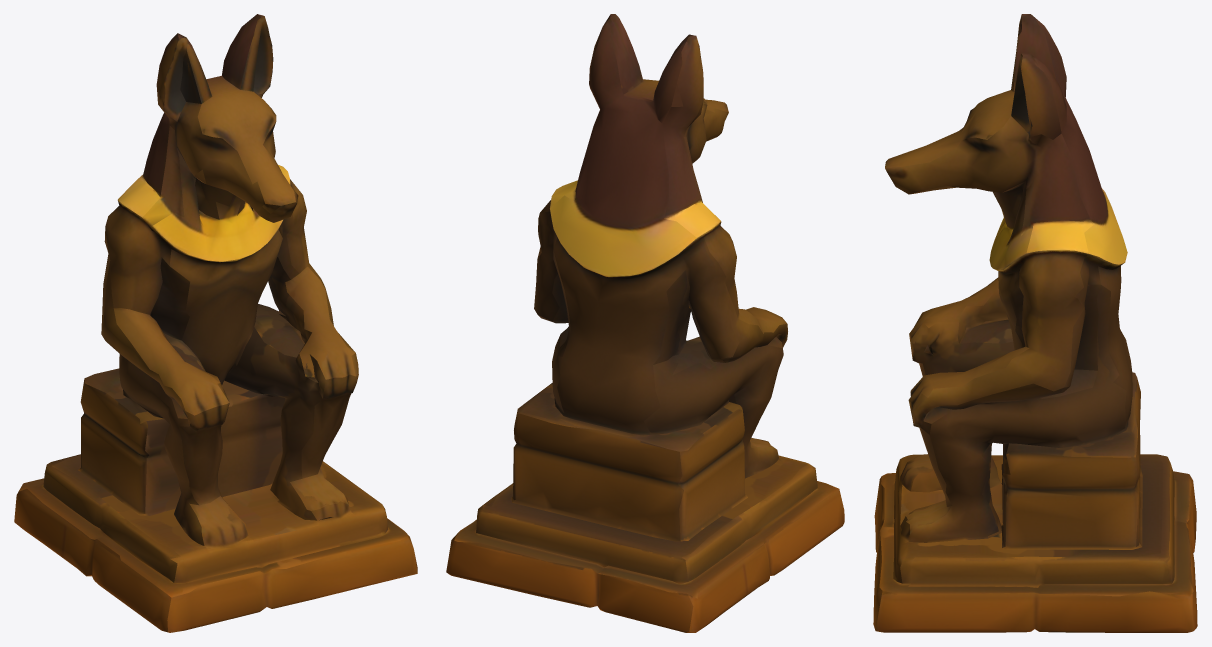
Rendered from Statue2.fbx.
3 views of the same model, side by side, from view 1: azimuth 30°, elevation 25°; view 2: azimuth 150°, elevation 25°; view 3: azimuth 270°, elevation 25° (orthographic). The views are drawn at different scales.
Parts seen in each view (by area): view 1: tmpoyxb_8nv.ply; view 2: tmpoyxb_8nv.ply; view 3: tmpoyxb_8nv.ply.
Part boxes in pixels (x1,y1,x2,y2): tmpoyxb_8nv.ply: (14,14,417,632); tmpoyxb_8nv.ply: (446,14,844,632); tmpoyxb_8nv.ply: (873,14,1197,632).
Bounding box in the file's own units: 101 × 199 × 109.
1 material, 1 textured.
